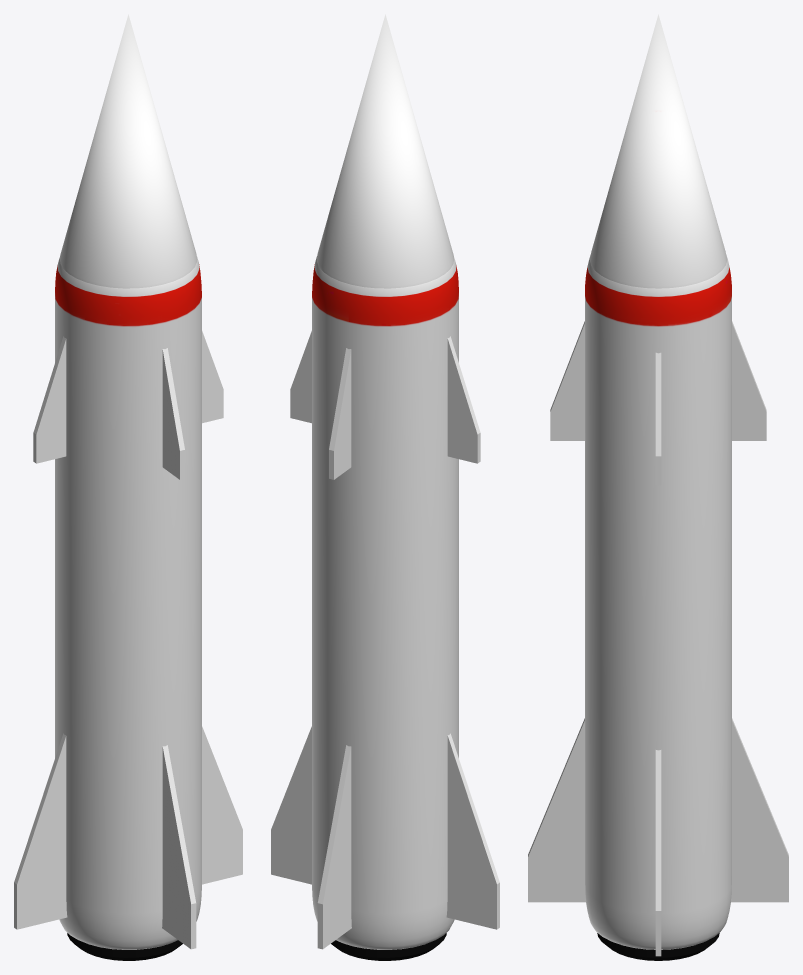
The model's file is dfwh.glb.
The picture shows the model from 3 angles, left to right: view 1: azimuth 30°, elevation 25°; view 2: azimuth 150°, elevation 25°; view 3: azimuth 270°, elevation 25°; orthographic projection.
Parts seen in each view (by area): view 1: 柱体, 立方体.004, 立方体.007, 立方体.008, 立方体.002, 立方体.005, 立方体.003, 锥体.001; view 2: 柱体, 立方体.004, 立方体.006, 立方体.008, 立方体.002, 立方体.001, 立方体.003, 锥体.001; view 3: 柱体, 立方体.007, 立方体.006, 立方体.005, 立方体.001, 立方体.008, 锥体.001, 立方体.003.
Part boxes in pixels (<box>): 柱体: <box>55,14,201,949</box>; 立方体.004: <box>14,733,67,929</box>; 立方体.007: <box>162,745,196,949</box>; 立方体.008: <box>202,726,242,884</box>; 立方体.002: <box>33,336,66,463</box>; 立方体.005: <box>162,348,184,479</box>; 立方体.003: <box>202,331,223,423</box>; 锥体.001: <box>67,933,182,960</box>; 柱体: <box>312,14,458,949</box>; 立方体.004: <box>446,733,499,929</box>; 立方体.006: <box>317,745,351,949</box>; 立方体.008: <box>271,726,311,884</box>; 立方体.002: <box>447,336,480,463</box>; 立方体.001: <box>329,348,351,479</box>; 立方体.003: <box>290,331,311,423</box>; 锥体.001: <box>331,933,446,960</box>; 柱体: <box>585,14,731,949</box>; 立方体.007: <box>528,718,585,902</box>; 立方体.006: <box>731,718,788,902</box>; 立方体.005: <box>550,321,584,440</box>; 立方体.001: <box>732,321,766,440</box>; 立方体.008: <box>655,750,661,956</box>; 锥体.001: <box>597,933,719,960</box>; 立方体.003: <box>655,352,661,485</box>.
Bounding box in the file's own units: 1.77 × 6.94 × 1.77.
Materials: 14 (14 with a texture image).
